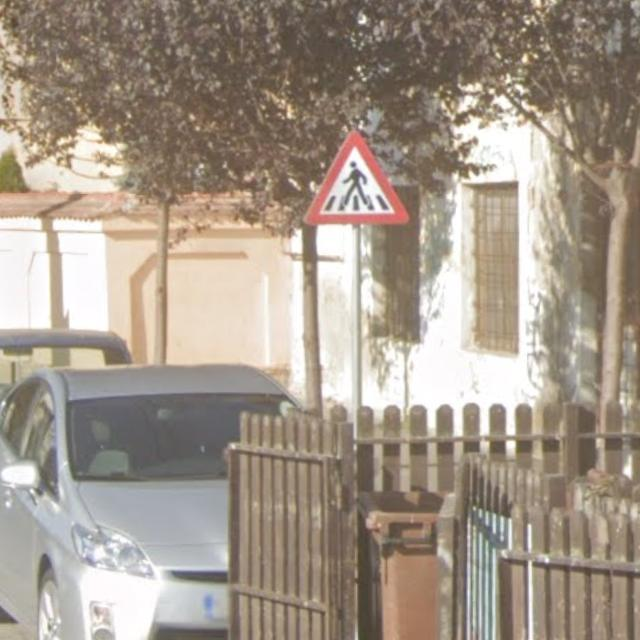warn_crosswalk: (303, 127, 408, 225)
